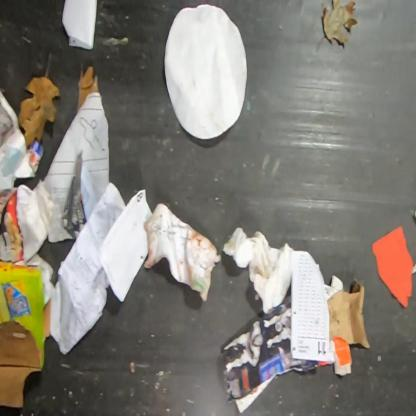cardboard: (0, 261, 51, 408), (0, 179, 54, 265), (327, 280, 369, 348)
